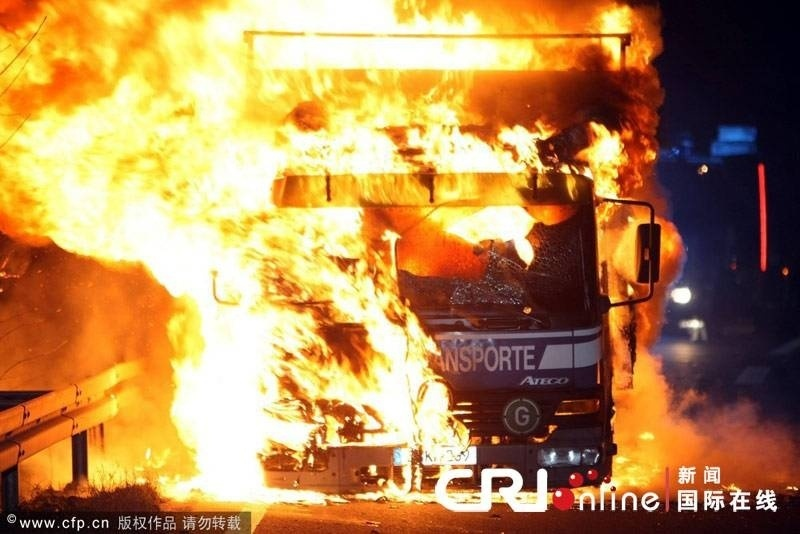fire: (16, 18, 586, 488)
